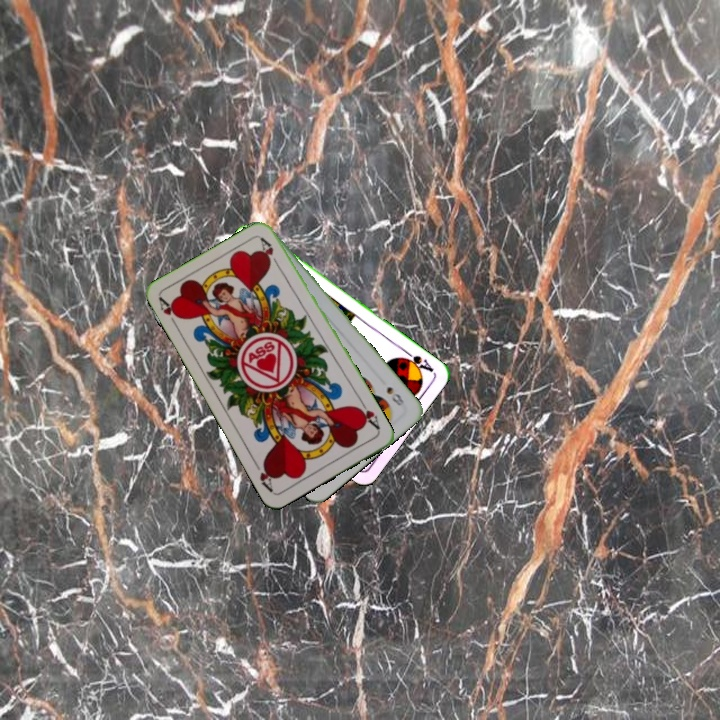HA: (352, 396, 383, 433), (155, 294, 184, 331)
S8: (382, 383, 407, 408)
SA: (397, 346, 436, 375)
